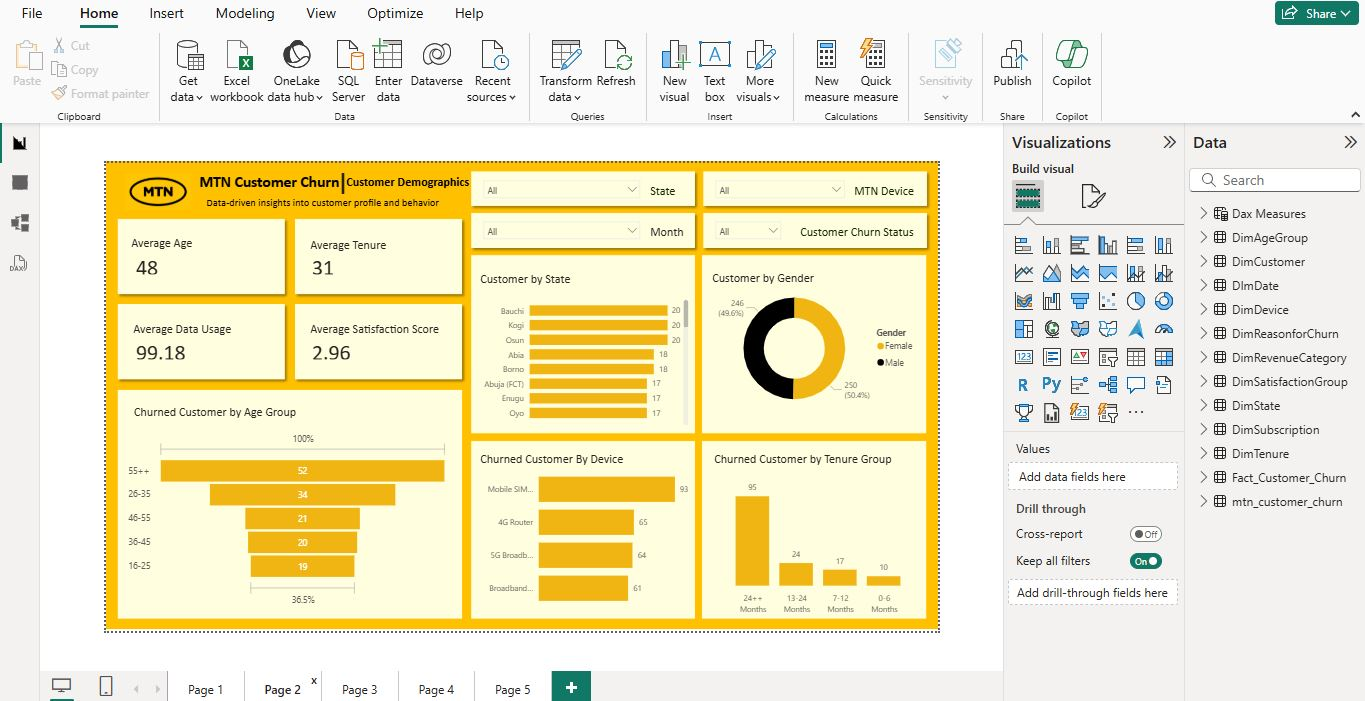

This screenshot's page, from the dashboard's own definition file:
{"tool":"powerbi","page":{"name":"Page 2","canvas":[1280,720],"ordinal":1},"visuals":[{"type":"textbox","box":[832.9,26.9,215.7,52.9],"z":0},{"type":"slicer","fields":{"Values":["DimDevice.MTN Device"]},"box":[927.1,16.9,218.6,47.1],"z":1000},{"type":"slicer","fields":{"Values":["Fact_Customer_Churn.Customer Churn Status"]},"box":[927.1,79.7,121.4,47.1],"z":2000},{"type":"textbox","box":[1062.9,89.7,192.9,42.9],"z":3000},{"type":"textbox","box":[832.9,89.7,108.6,42.9],"z":4000},{"type":"textbox","box":[1145.7,26.9,110,52.9],"z":5000},{"type":"slicer","fields":{"Values":["DimState.State"]},"box":[571.4,16.9,261.4,47.1],"z":6000},{"type":"slicer","fields":{"Values":["DImDate.Month Name"]},"box":[571.4,79.7,261.4,47.1],"z":7000},{"type":"cardVisual","fields":{"Data":["Dax Measures.Average Age"]},"box":[28.6,115.4,177.1,61.4],"z":8000},{"type":"textbox","box":[34.3,105.4,215.7,52.9],"z":9000},{"type":"cardVisual","fields":{"Data":["Dax Measures.Average Tenure"]},"box":[300,115.1,177.1,61.4],"z":10000},{"type":"textbox","box":[310,109.4,215.7,52.9],"z":11000},{"type":"cardVisual","fields":{"Data":["Dax Measures.Average Data Usage"]},"box":[28.6,246.9,177.1,61.4],"z":12000},{"type":"textbox","box":[37.1,238.3,215.7,52.9],"z":13000},{"type":"cardVisual","fields":{"Data":["Dax Measures.Average Satisfaction"]},"box":[300,246.9,177.1,61.4],"z":14000},{"type":"textbox","box":[308.6,238.3,215.7,52.9],"z":15000},{"type":"funnel","fields":{"Category":["DimAgeGroup.Age_Group"],"Y":["Dax Measures.Churned Customer"]},"box":[28.6,408.3,501.4,278.6],"z":16000},{"type":"donutChart","fields":{"Category":["DimCustomer.Gender"],"Y":["DimCustomer.Customer Count"]},"box":[927.1,161.2,328.6,247.1],"z":17000},{"type":"clusteredBarChart","fields":{"Category":["DimDevice.MTN Device"],"Y":["Dax Measures.Churned Customer"]},"box":[571.4,449.7,330,251.4],"z":18000},{"type":"columnChart","fields":{"Category":["DimTenure.Tenure_Group"],"Y":["Dax Measures.Churned Customer"]},"box":[927.1,476.9,328.6,224.3],"z":19000},{"type":"textbox","box":[927.1,159.7,215.7,52.9],"z":20000},{"type":"textbox","box":[571.4,438.3,248.6,52.9],"z":21000},{"type":"textbox","box":[930,438.3,325.7,52.9],"z":22000},{"type":"textbox","box":[34.3,365.4,301.4,52.9],"z":23000},{"type":"barChart","fields":{"Category":["DimState.State"],"Y":["DimCustomer.Customer Count"]},"box":[571,197.1,330.4,211.6],"z":24000},{"type":"textbox","box":[571,160.9,215.9,53.6],"z":25000},{"type":"image","box":[0,8.7,159.4,68.1],"z":26000},{"type":"textbox","box":[139.1,8.7,268.1,44.9],"z":27000},{"type":"textbox","box":[365.2,13,221.7,44.9],"z":28000},{"type":"textbox","box":[129,46.4,408.7,60.9],"z":29000},{"type":"textbox","box":[350.7,0,39.1,84.1],"z":30000}]}

Visuals, with their boxes on the page's 1280x720 design canvas (x1, y1, x2, y2). These are canvas units, not pixel positions in the 1365x701 screenshot, which may show the page scaled, cropped or inside an application window:
textbox: select_region(833, 27, 1049, 80)
slicer - DimDevice.MTN Device: select_region(927, 17, 1146, 64)
slicer - Fact_Customer_Churn.Customer Churn Status: select_region(927, 80, 1048, 127)
textbox: select_region(1063, 90, 1256, 133)
textbox: select_region(833, 90, 942, 133)
textbox: select_region(1146, 27, 1256, 80)
slicer - DimState.State: select_region(571, 17, 833, 64)
slicer - DImDate.Month Name: select_region(571, 80, 833, 127)
cardVisual - Dax Measures.Average Age: select_region(29, 115, 206, 177)
textbox: select_region(34, 105, 250, 158)
cardVisual - Dax Measures.Average Tenure: select_region(300, 115, 477, 176)
textbox: select_region(310, 109, 526, 162)
cardVisual - Dax Measures.Average Data Usage: select_region(29, 247, 206, 308)
textbox: select_region(37, 238, 253, 291)
cardVisual - Dax Measures.Average Satisfaction: select_region(300, 247, 477, 308)
textbox: select_region(309, 238, 524, 291)
funnel - DimAgeGroup.Age_Group x Dax Measures.Churned Customer: select_region(29, 408, 530, 687)
donutChart - DimCustomer.Gender x DimCustomer.Customer Count: select_region(927, 161, 1256, 408)
clusteredBarChart - DimDevice.MTN Device x Dax Measures.Churned Customer: select_region(571, 450, 901, 701)
columnChart - DimTenure.Tenure_Group x Dax Measures.Churned Customer: select_region(927, 477, 1256, 701)
textbox: select_region(927, 160, 1143, 213)
textbox: select_region(571, 438, 820, 491)
textbox: select_region(930, 438, 1256, 491)
textbox: select_region(34, 365, 336, 418)
barChart - DimState.State x DimCustomer.Customer Count: select_region(571, 197, 901, 409)
textbox: select_region(571, 161, 787, 214)
image: select_region(0, 9, 159, 77)
textbox: select_region(139, 9, 407, 54)
textbox: select_region(365, 13, 587, 58)
textbox: select_region(129, 46, 538, 107)
textbox: select_region(351, 0, 390, 84)
